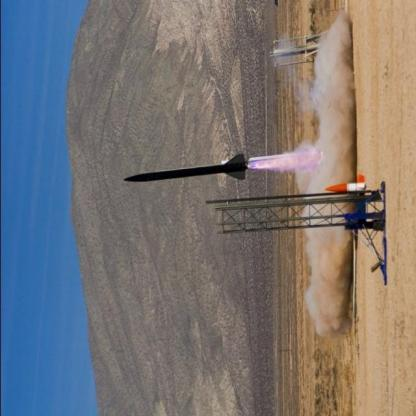MIL_TBM: (123, 152, 254, 183), (322, 182, 366, 194)
